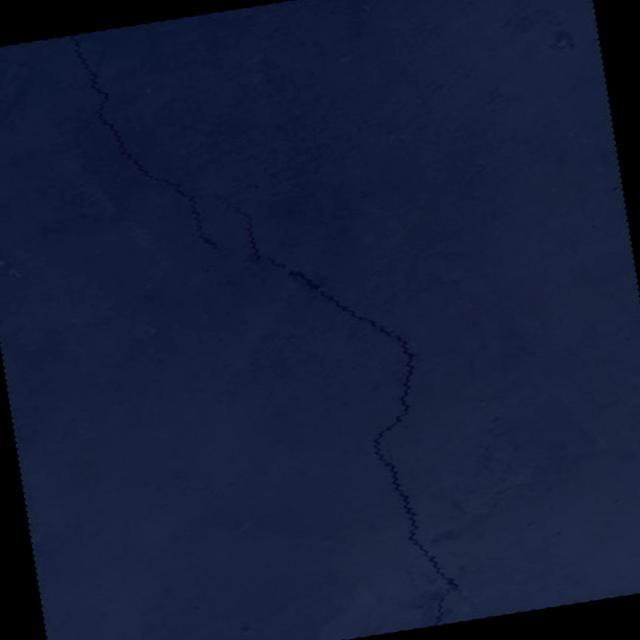crack: (208, 161, 479, 640), (56, 16, 230, 282)
